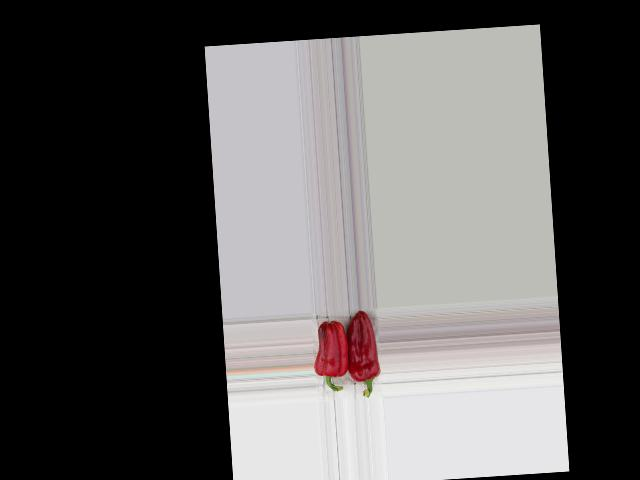bell_pepper: (343, 309, 381, 401)
